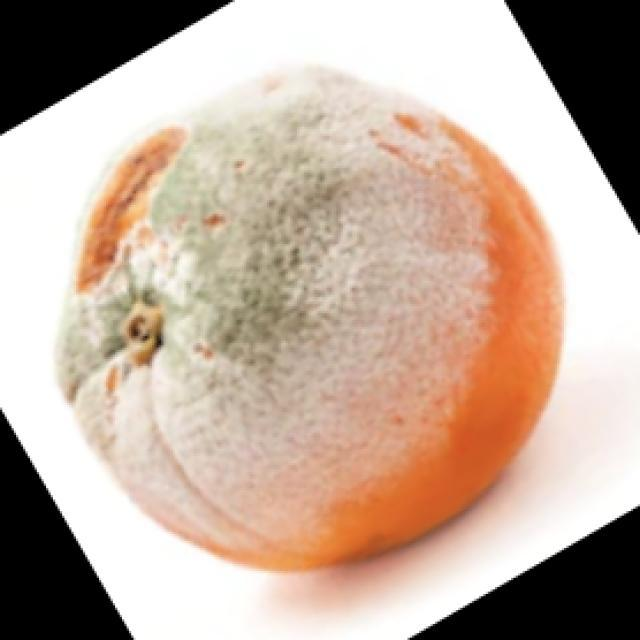sangat-busuk: (56, 66, 561, 569)
